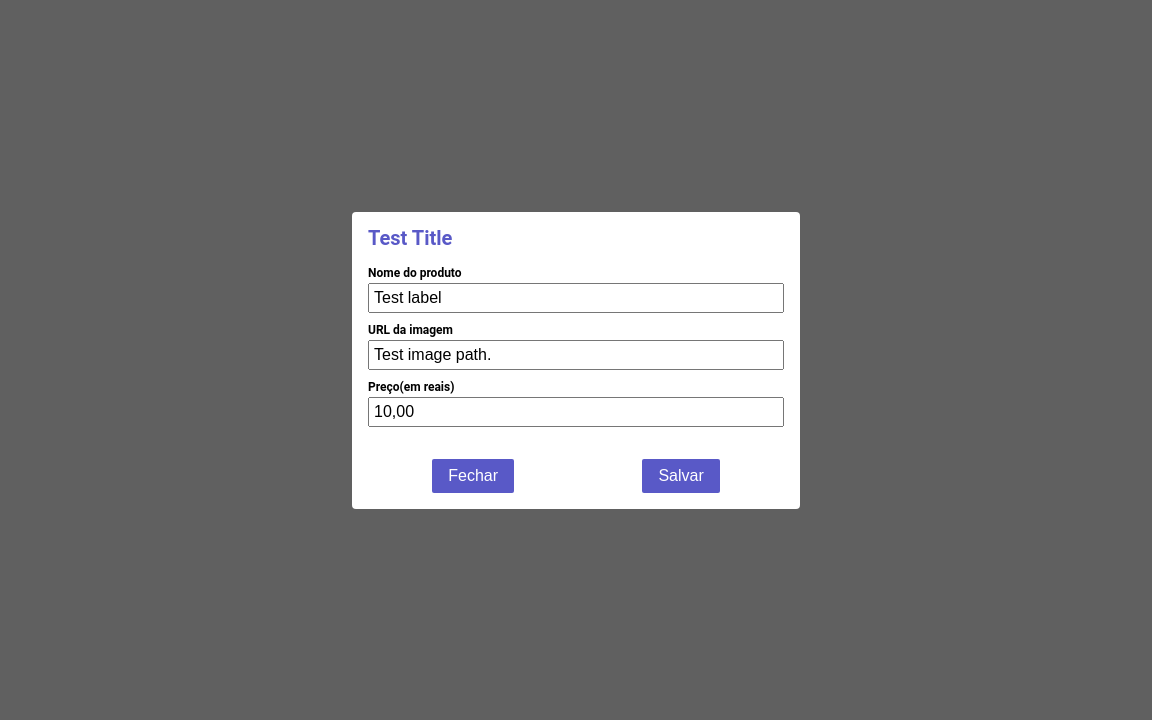
RegisterModal › should show saving message when product is saved
The width and height of the screenshot is (1152, 720).
Click the button "Salvar" at (681, 476), box [642, 458, 720, 492]
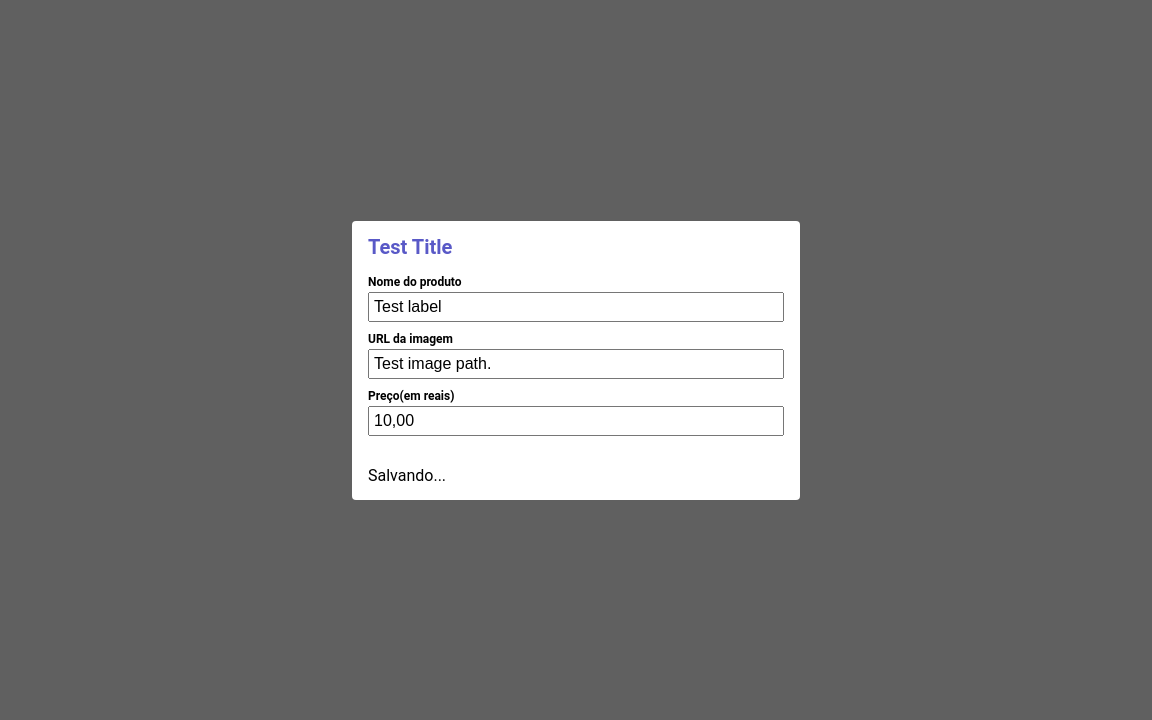
Expected: the text "Salvando..." is shown, [368, 466, 446, 484]
